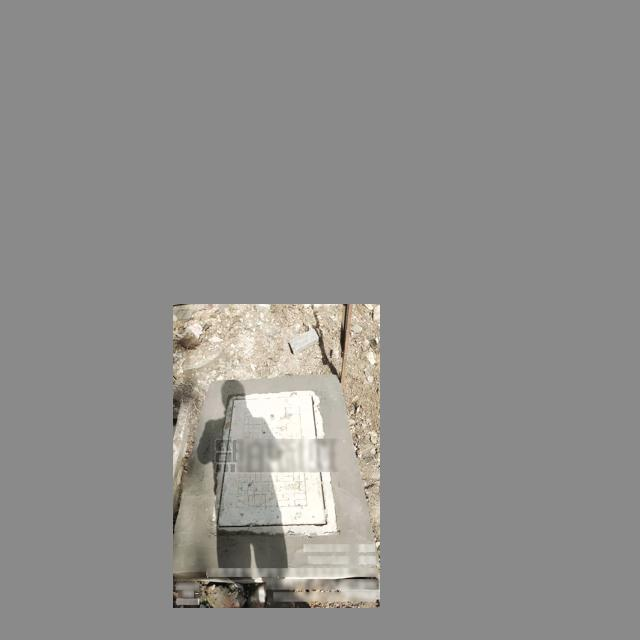good: (212, 390, 337, 534)
